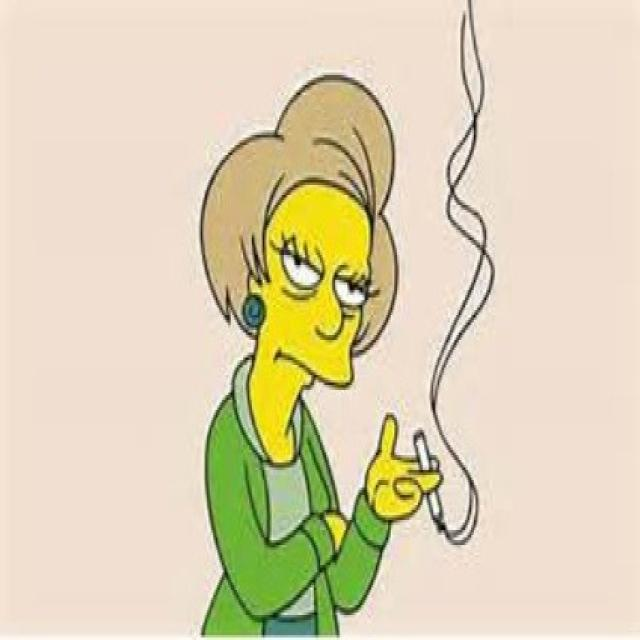Edna Krappel: (196, 70, 399, 460)
